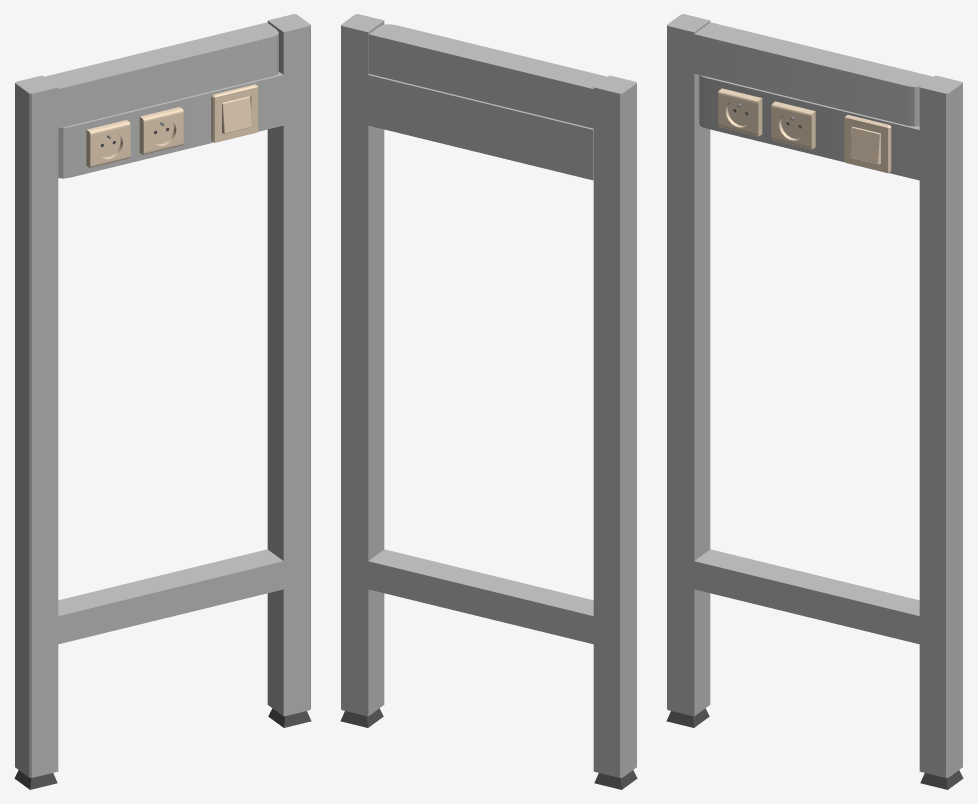
Rendered from Regal.fbx.
3 views of the same model, side by side, from view 1: azimuth 30°, elevation 25°; view 2: azimuth 150°, elevation 25°; view 3: azimuth 330°, elevation 25° (orthographic).
Parts seen in each view (by area): view 1: SM_Shelfs_Border; view 2: SM_Shelfs_Border; view 3: SM_Shelfs_Border.
Boxes of the visible parts, x1,y1,x2,y2 form: SM_Shelfs_Border: (14, 14, 311, 789); SM_Shelfs_Border: (340, 14, 637, 789); SM_Shelfs_Border: (666, 14, 963, 789).
Size of the model in its own units: 49.94 by 118 by 6.51.
